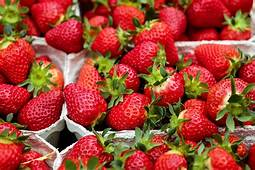Fresa: (205, 75, 255, 126), (62, 80, 110, 129), (15, 88, 69, 131), (55, 132, 116, 170), (133, 18, 181, 66), (193, 41, 246, 81), (141, 64, 188, 108), (173, 105, 220, 144), (120, 39, 167, 77), (1, 38, 37, 86), (44, 18, 90, 54), (90, 24, 128, 61), (108, 62, 142, 94)
